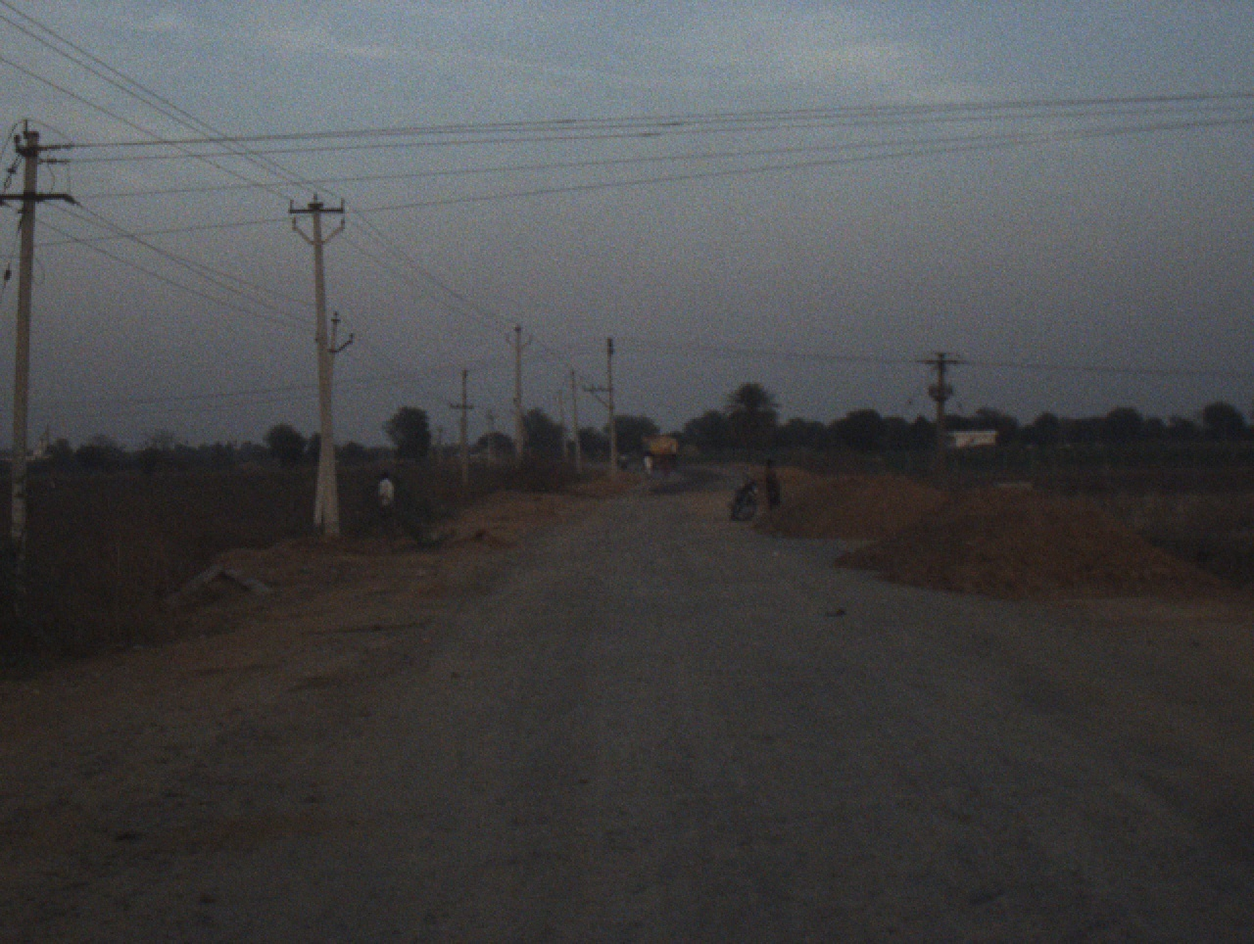motorcycle: (728, 472, 764, 524)
person: (760, 448, 784, 508), (379, 468, 397, 518), (637, 446, 654, 477), (658, 448, 671, 476)
truck: (642, 427, 682, 463)
